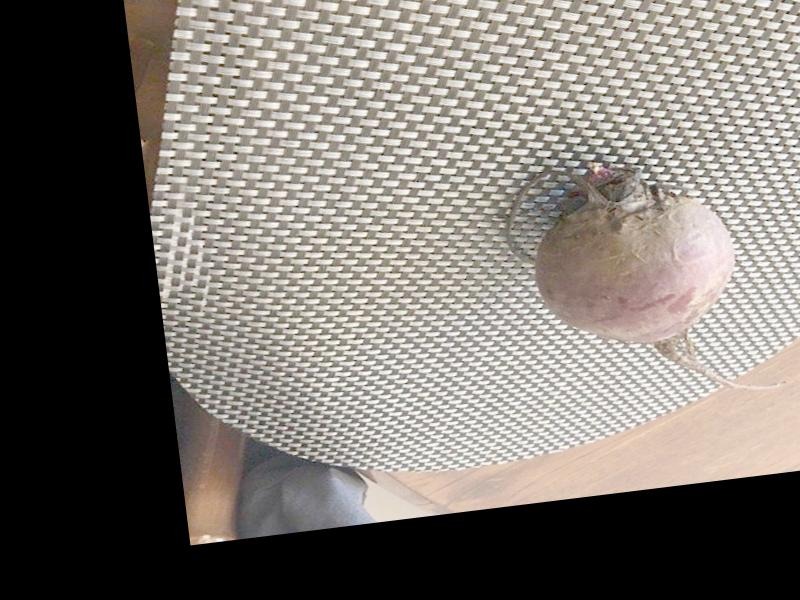Beet: (495, 143, 783, 418)
